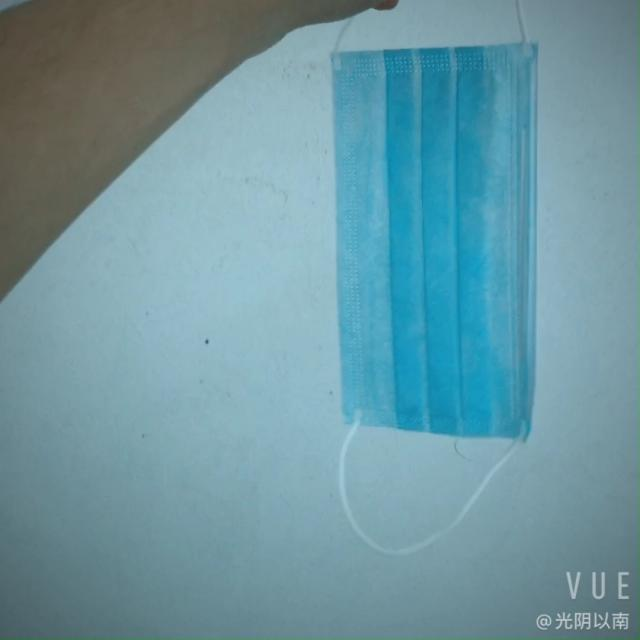non-organic waste: (320, 43, 547, 437)
